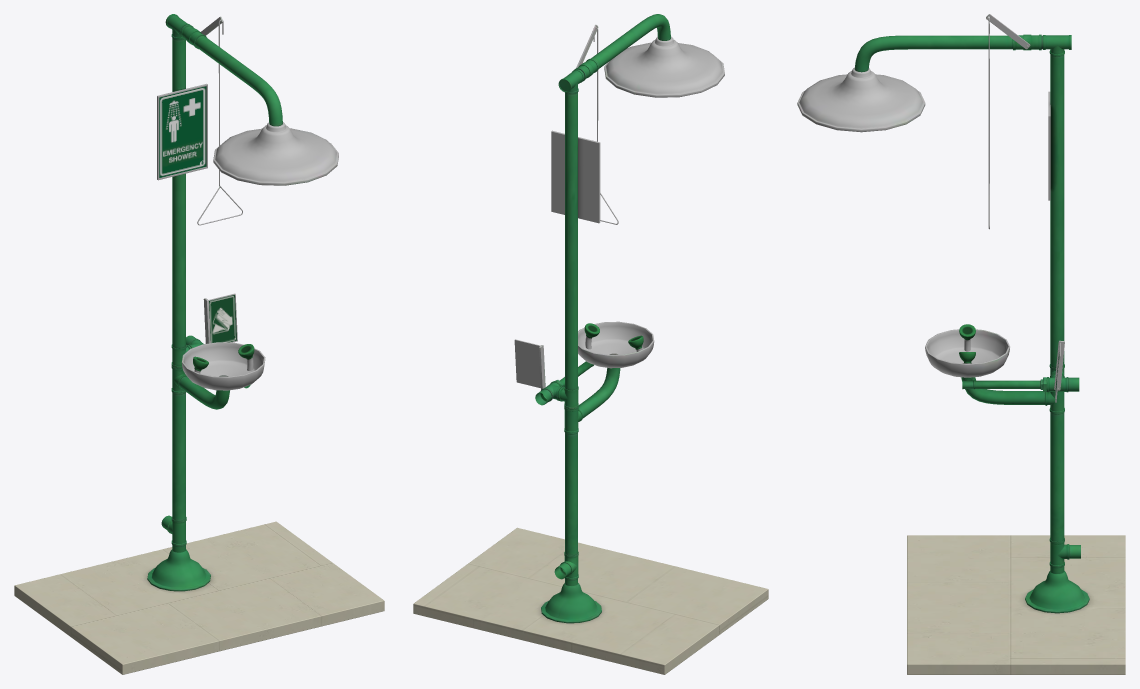
The model's file is shower-emergency.glb.
The picture shows the model from 3 angles, left to right: view 1: azimuth 30°, elevation 25°; view 2: azimuth 150°, elevation 25°; view 3: azimuth 270°, elevation 25°; orthographic projection. The views are drawn at different scales.
Parts seen in each view (by area): view 1: Floor, EmergencyShower, ShowerSign, HandSign; view 2: Floor, EmergencyShower, ShowerSign, HandSign; view 3: Floor, EmergencyShower.
Part boxes in pixels (bbox=[...]): Floor: bbox=[14, 521, 384, 674]; EmergencyShower: bbox=[147, 14, 338, 591]; ShowerSign: bbox=[157, 83, 207, 180]; HandSign: bbox=[208, 293, 237, 342]; Floor: bbox=[413, 527, 768, 674]; EmergencyShower: bbox=[535, 14, 724, 623]; ShowerSign: bbox=[551, 130, 600, 223]; HandSign: bbox=[514, 339, 540, 388]; Floor: bbox=[907, 535, 1125, 674]; EmergencyShower: bbox=[797, 14, 1089, 613].
Bounding box in the file's own units: 1.06 × 2.3 × 1.14.
4 materials, 4 textured.
